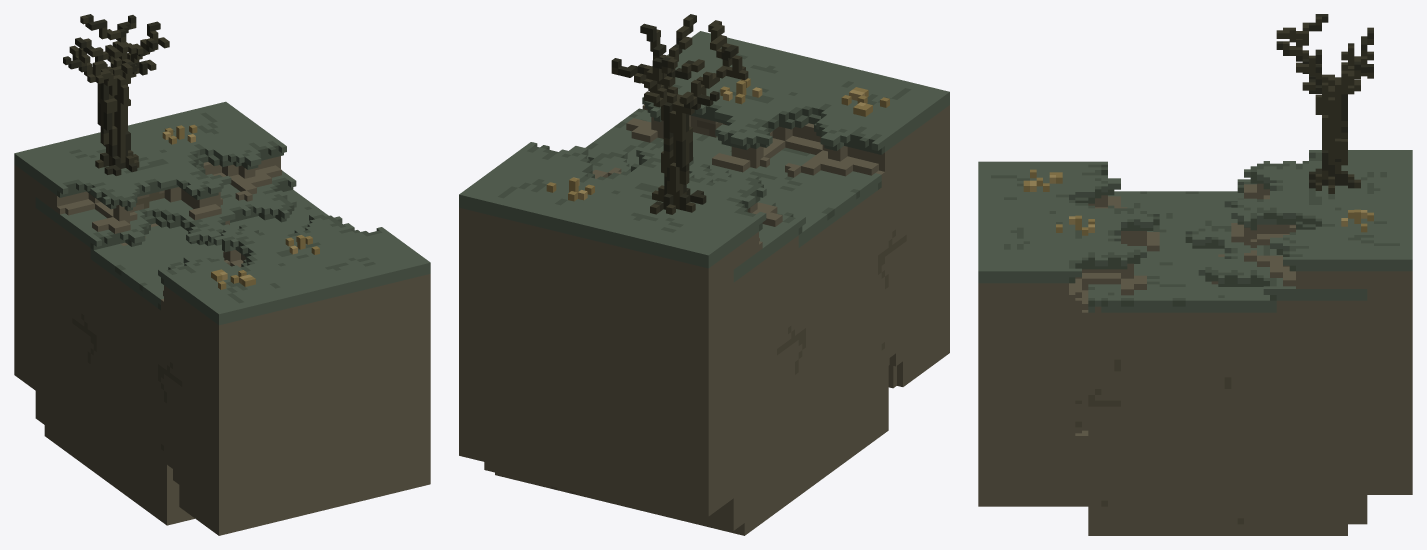
Rendered from mountain_8.obj.
The picture shows the model from 3 angles, left to right: view 1: azimuth 30°, elevation 25°; view 2: azimuth 150°, elevation 25°; view 3: azimuth 270°, elevation 25°; orthographic projection. The views are drawn at different scales.
Size of the model in its own units: 4 by 7.2 by 6.7.
Materials: 1 (1 with a texture image).
